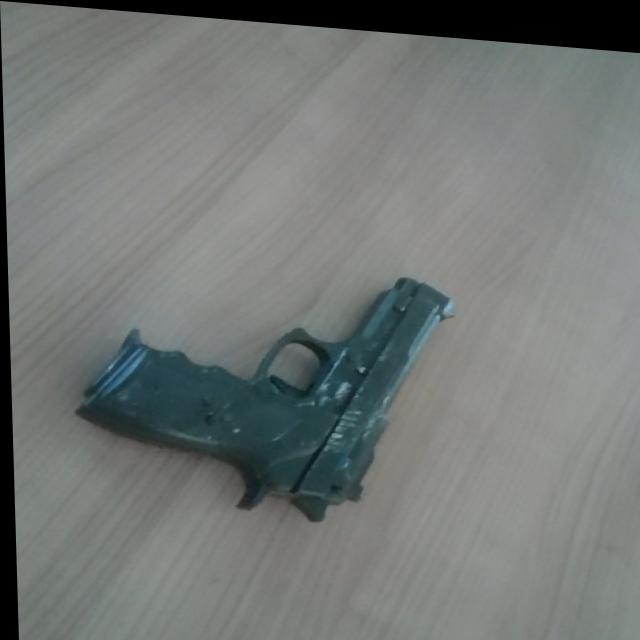handgun: (58, 205, 464, 528)
